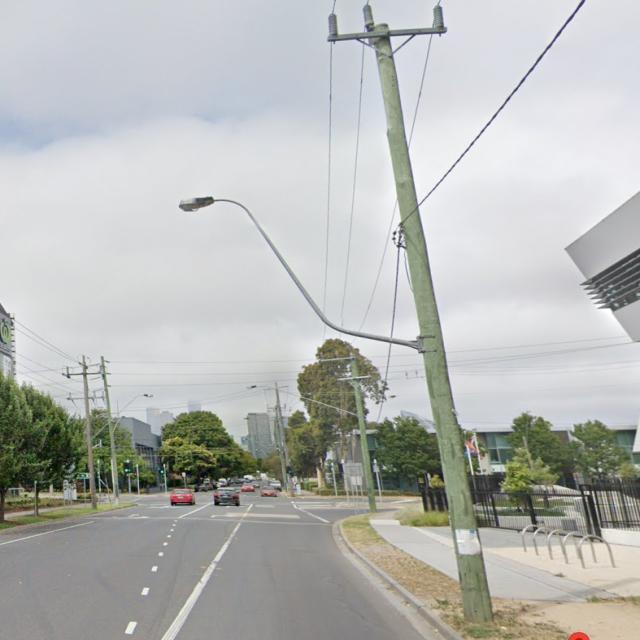HV-transmission: (320, 0, 444, 43)
crossarm: (326, 3, 447, 43), (61, 365, 104, 379), (338, 374, 372, 388), (67, 391, 106, 402), (321, 356, 357, 367), (265, 402, 292, 412), (263, 384, 289, 392)
mid mount suitable pole: (177, 2, 497, 625)
steel-pole: (330, 461, 338, 497), (126, 458, 132, 496), (163, 463, 168, 492)
streetlight: (178, 195, 425, 351), (246, 384, 360, 417), (90, 393, 154, 439)
timber-pole: (370, 22, 497, 624), (348, 350, 377, 512), (100, 356, 121, 502), (81, 354, 98, 509), (275, 382, 295, 496)
traffic-light: (122, 462, 133, 474), (285, 466, 292, 475), (159, 465, 165, 474)
